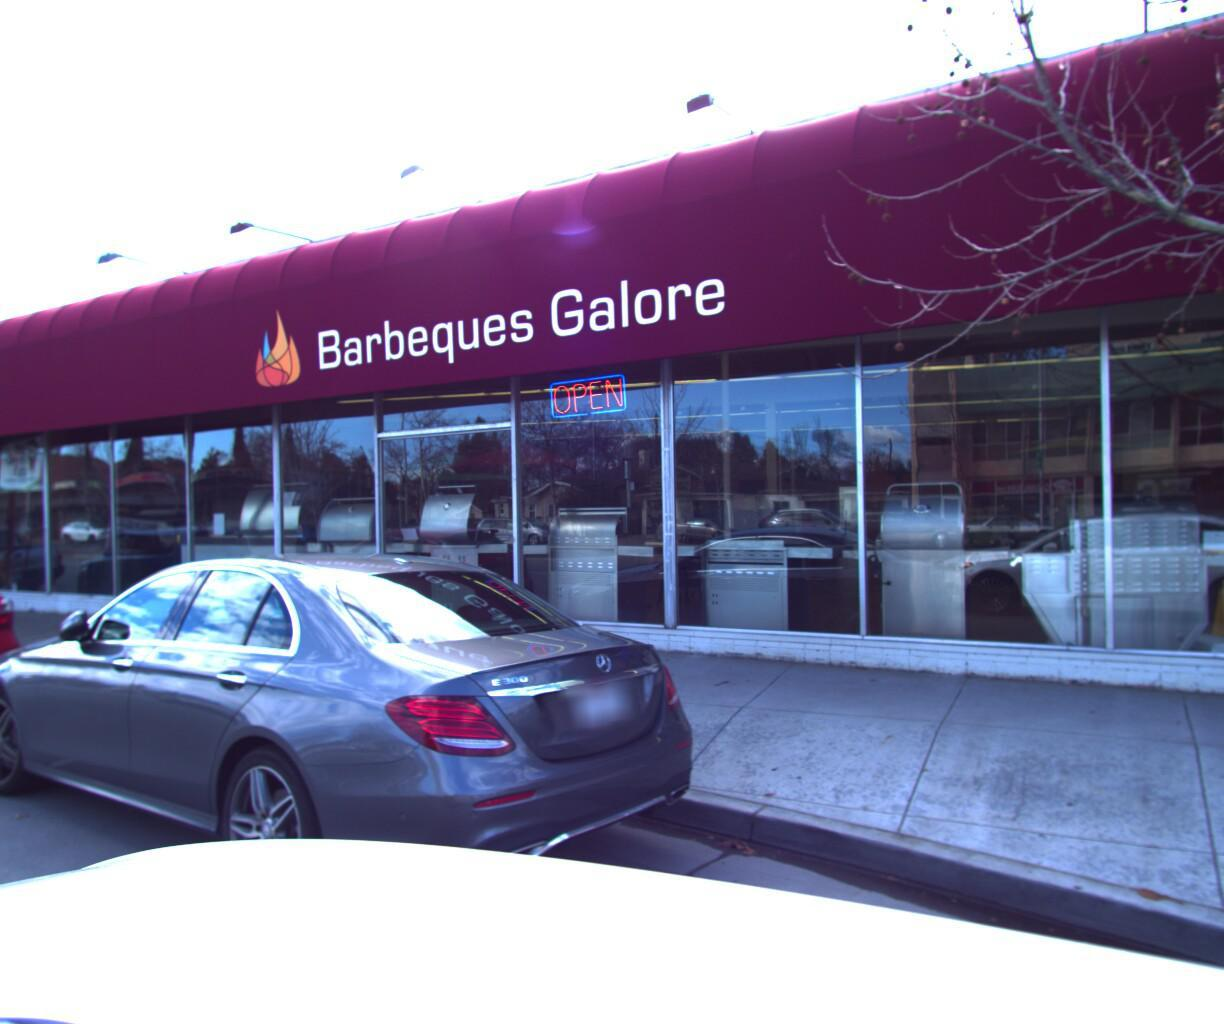car: (0, 544, 714, 1024), (0, 544, 32, 764)
